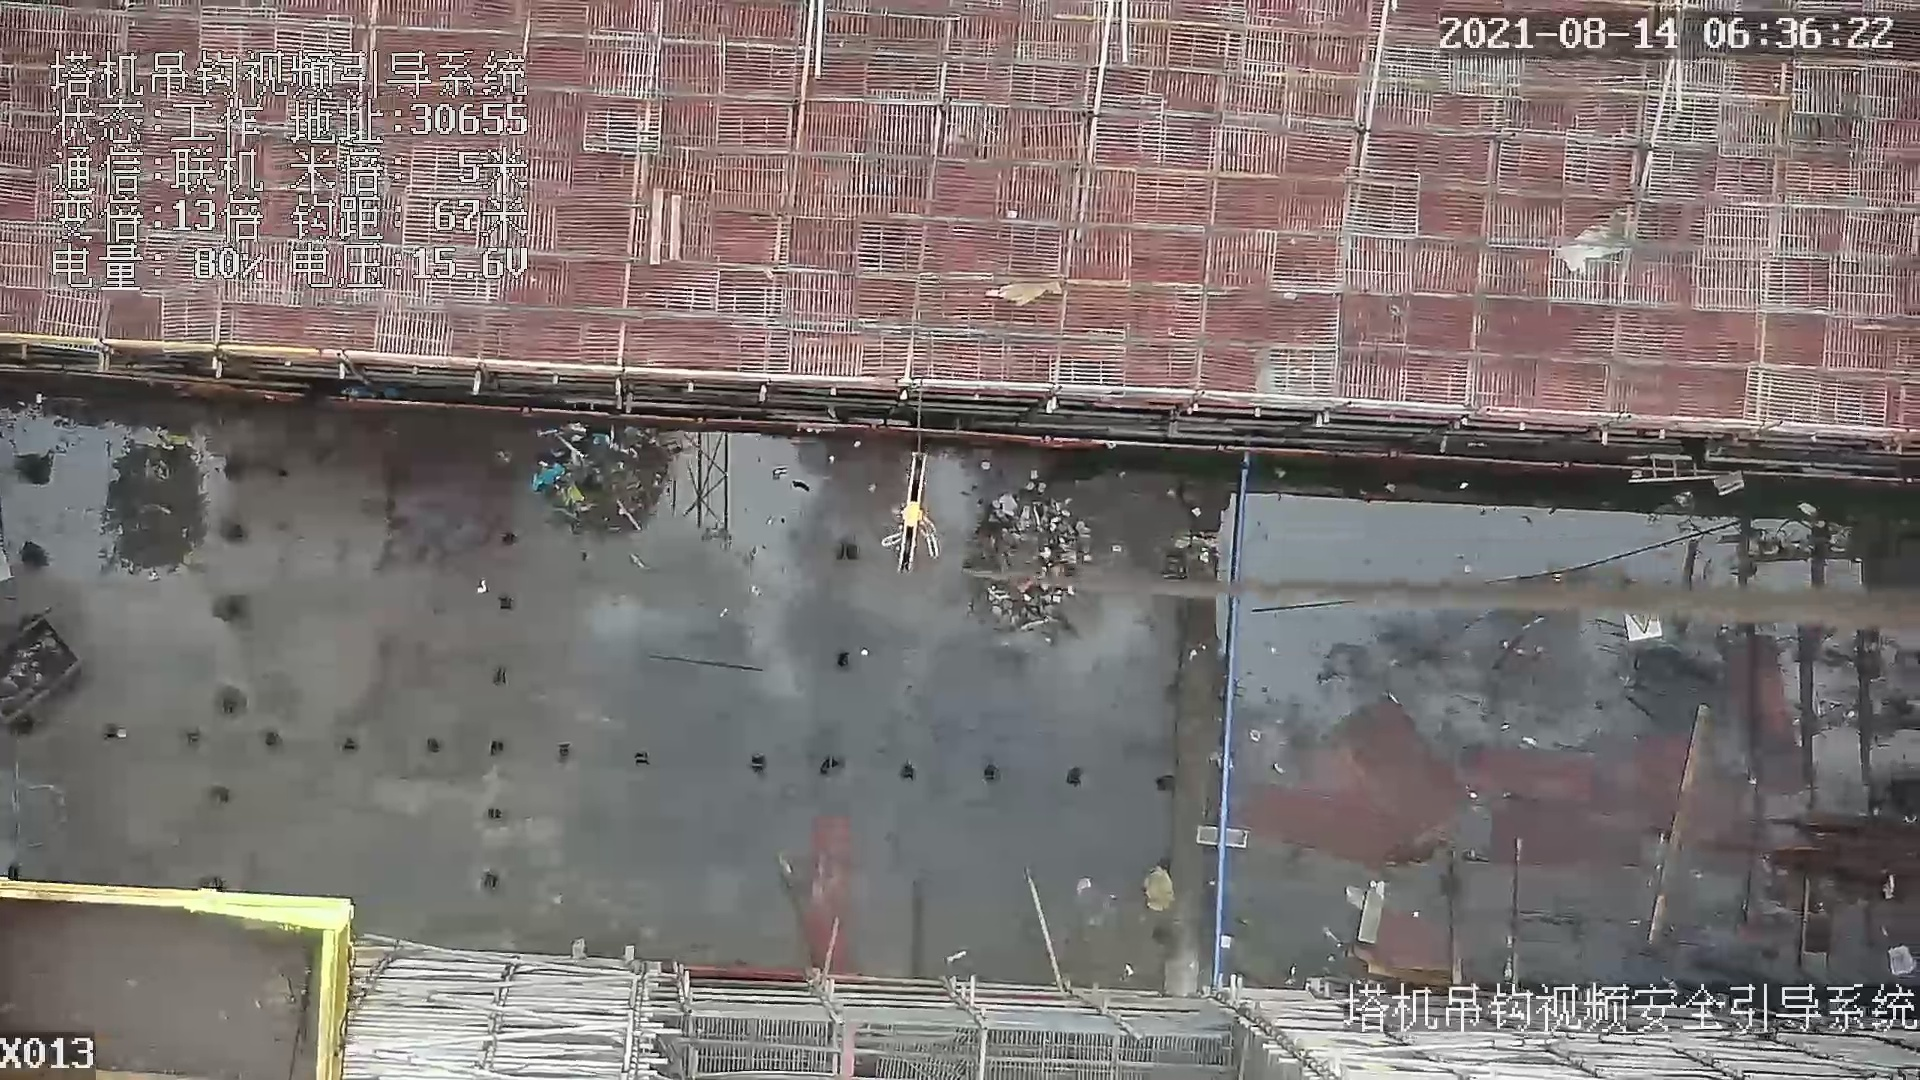hook: (877, 456, 949, 574)
hopper: (1, 597, 76, 735)
